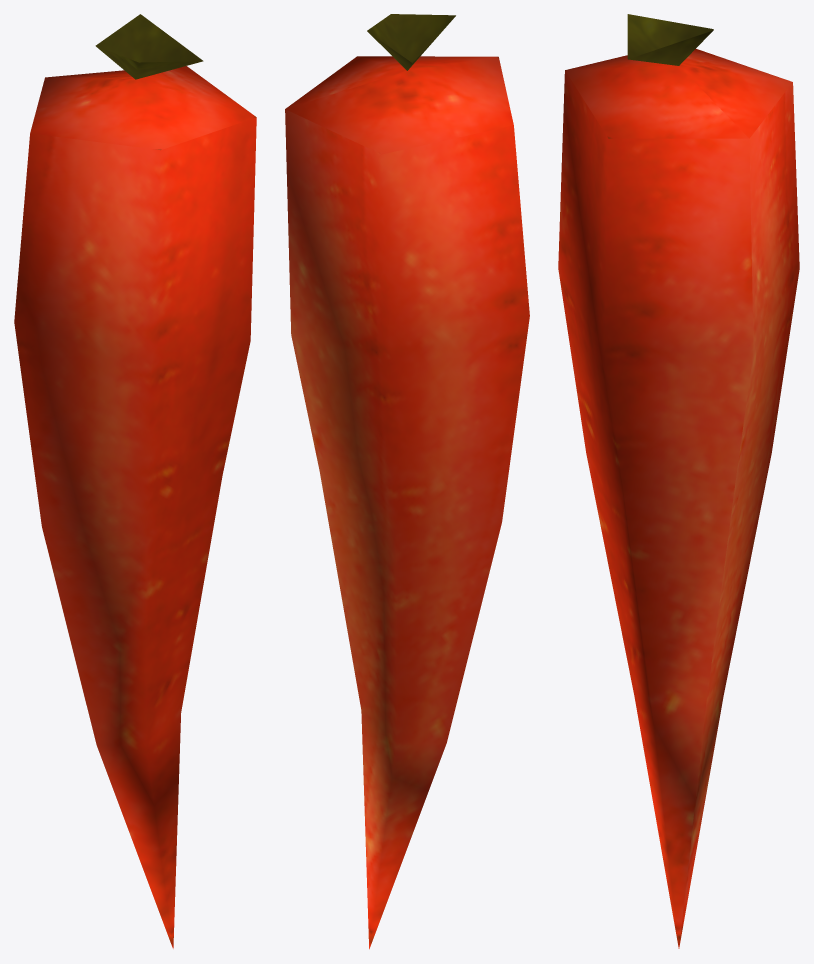
Rendered from carrot.fbx.
3 renders of one model, left to right at view 1: azimuth 30°, elevation 25°; view 2: azimuth 150°, elevation 25°; view 3: azimuth 270°, elevation 25°, orthographic. The views are drawn at different scales.
Visible parts, largest first — view 1: carrot; view 2: carrot; view 3: carrot.
Boxes of the visible parts, x1=… form: carrot: x1=14, y1=14, x2=256, y2=948; carrot: x1=285, y1=14, x2=529, y2=949; carrot: x1=558, y1=14, x2=799, y2=948.
Size of the model in its own units: 5.46 by 23.41 by 5.62.
Materials: 1 (1 with a texture image).
